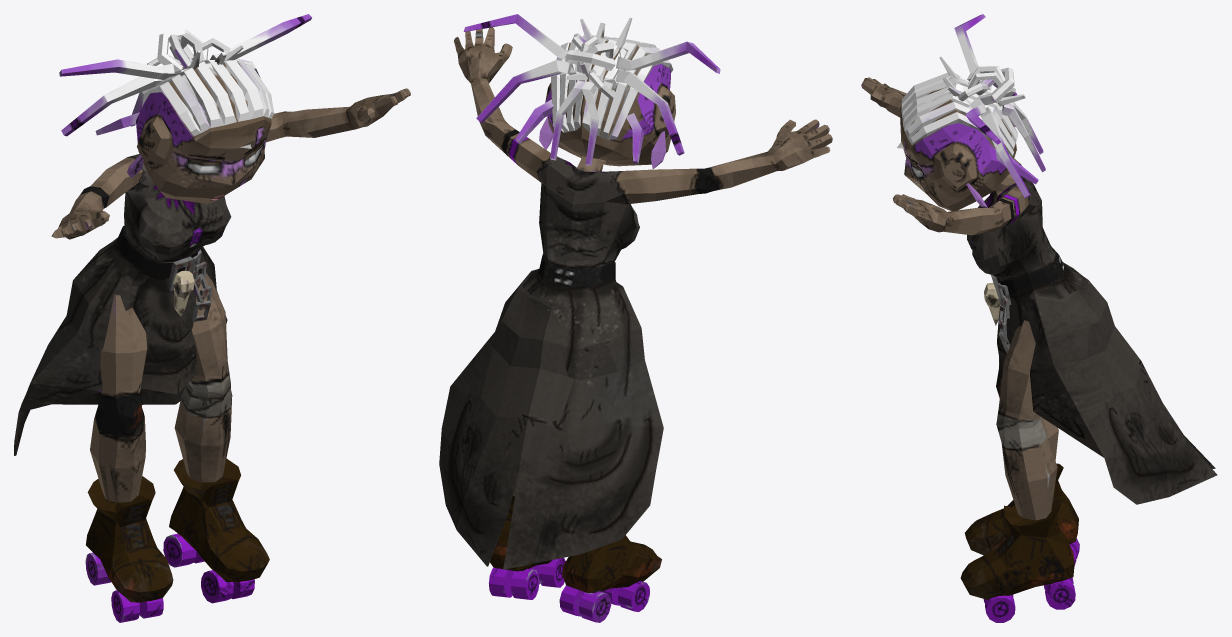
File: bruja_000204.obj
3 renders of one model, left to right at view 1: azimuth 30°, elevation 25°; view 2: azimuth 150°, elevation 25°; view 3: azimuth 270°, elevation 25°, orthographic. The views are drawn at different scales.
Parts seen in each view (by area): view 1: Bruja_Plane.001; view 2: Bruja_Plane.001; view 3: Bruja_Plane.001.
Boxes of the visible parts, left/top/right/bottom form: Bruja_Plane.001: left=14, top=14, right=410, bottom=622; Bruja_Plane.001: left=439, top=14, right=832, bottom=622; Bruja_Plane.001: left=861, top=14, right=1217, bottom=622.
Bounding box in the file's own units: 10.77 × 16.12 × 9.79.
